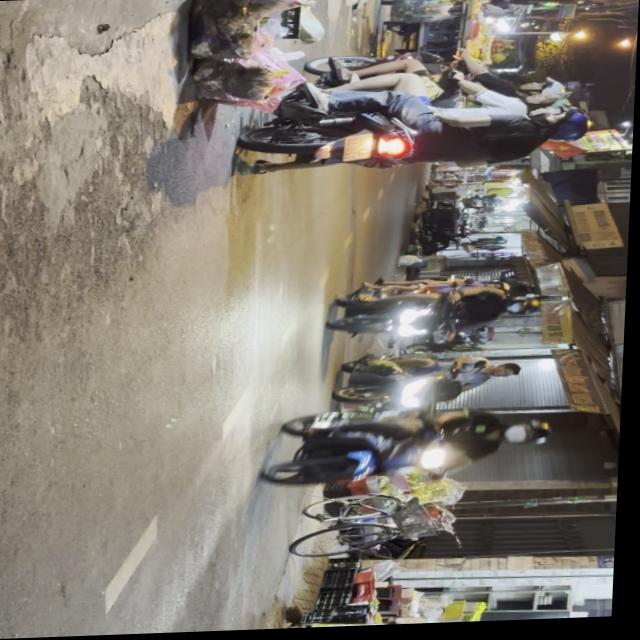helmet: (542, 119, 593, 149), (504, 424, 556, 452), (516, 80, 569, 106), (508, 301, 544, 320)
licenseplate: (238, 47, 601, 184), (264, 403, 559, 494), (328, 278, 547, 348), (334, 350, 530, 415)
motorcyclist: (495, 366, 528, 383)
nohelmet: (346, 136, 375, 164)
